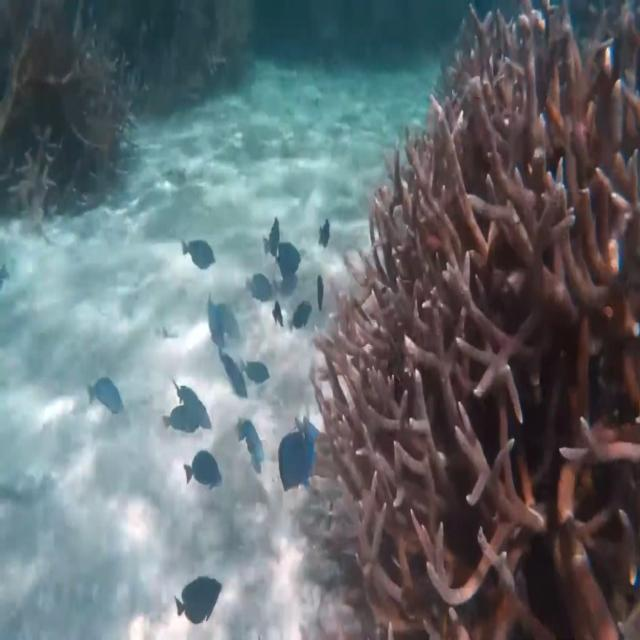Staghorn-Coral -Endangered-: (311, 0, 640, 640), (2, 1, 126, 193)
